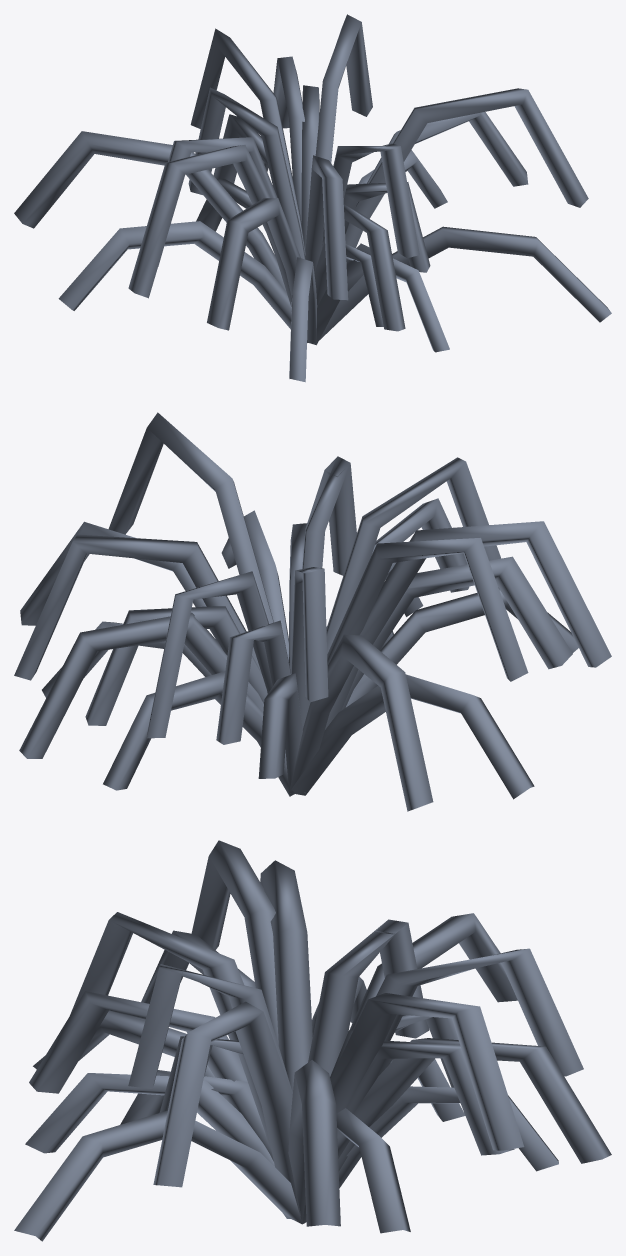
Rendered from garden-grass-low-lite.glb.
3 renders of one model, top to bottom at view 1: azimuth 30°, elevation 25°; view 2: azimuth 150°, elevation 25°; view 3: azimuth 270°, elevation 25°, orthographic. The views are drawn at different scales.
Visible parts, largest first — view 1: garden-grass-low; view 2: garden-grass-low; view 3: garden-grass-low.
Part boxes in pixels (bbox=[...]): garden-grass-low: bbox=[14, 14, 611, 382]; garden-grass-low: bbox=[14, 412, 611, 811]; garden-grass-low: bbox=[14, 840, 611, 1241].
Bounding box in the file's own units: 0.8 × 0.42 × 0.8.
